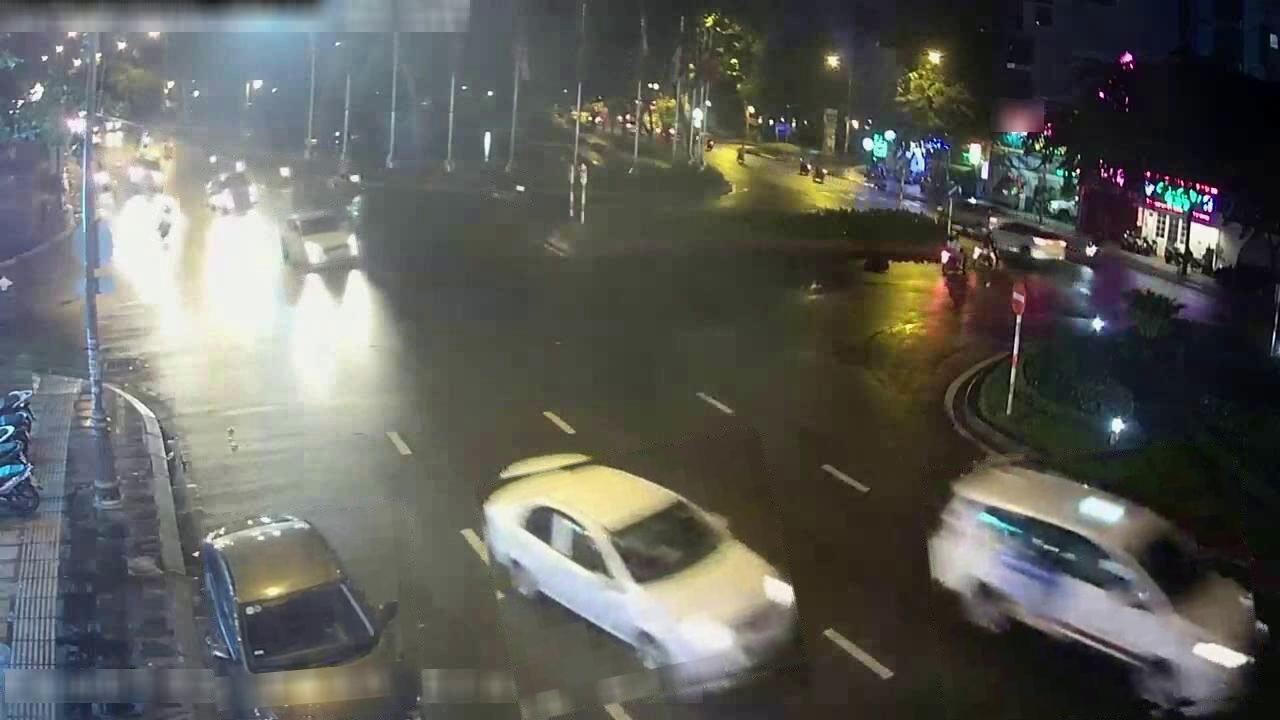Car: (927, 463, 1268, 714), (483, 453, 797, 688), (200, 514, 419, 719), (280, 210, 361, 270), (990, 220, 1067, 262), (206, 171, 258, 214), (127, 153, 164, 192), (689, 165, 731, 198)
Motorcycle: (0, 463, 40, 514), (0, 426, 28, 464)
Motorcyclist: (489, 174, 530, 202), (155, 197, 178, 244), (264, 160, 294, 185), (328, 170, 363, 191), (93, 160, 111, 194), (161, 137, 175, 160), (207, 152, 220, 175), (139, 130, 152, 153), (232, 158, 247, 176)
Sign: (1011, 282, 1026, 315)
